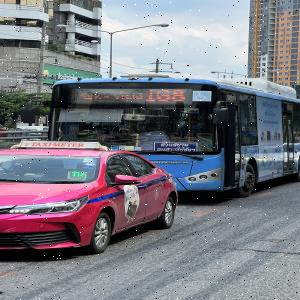BMTA-bus: (47, 76, 300, 197)
Bus Line Number: (144, 89, 188, 102)
Destination Sign: (154, 142, 198, 152)
